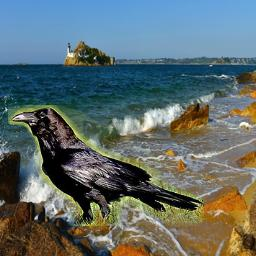Crow: (8, 105, 204, 226)
